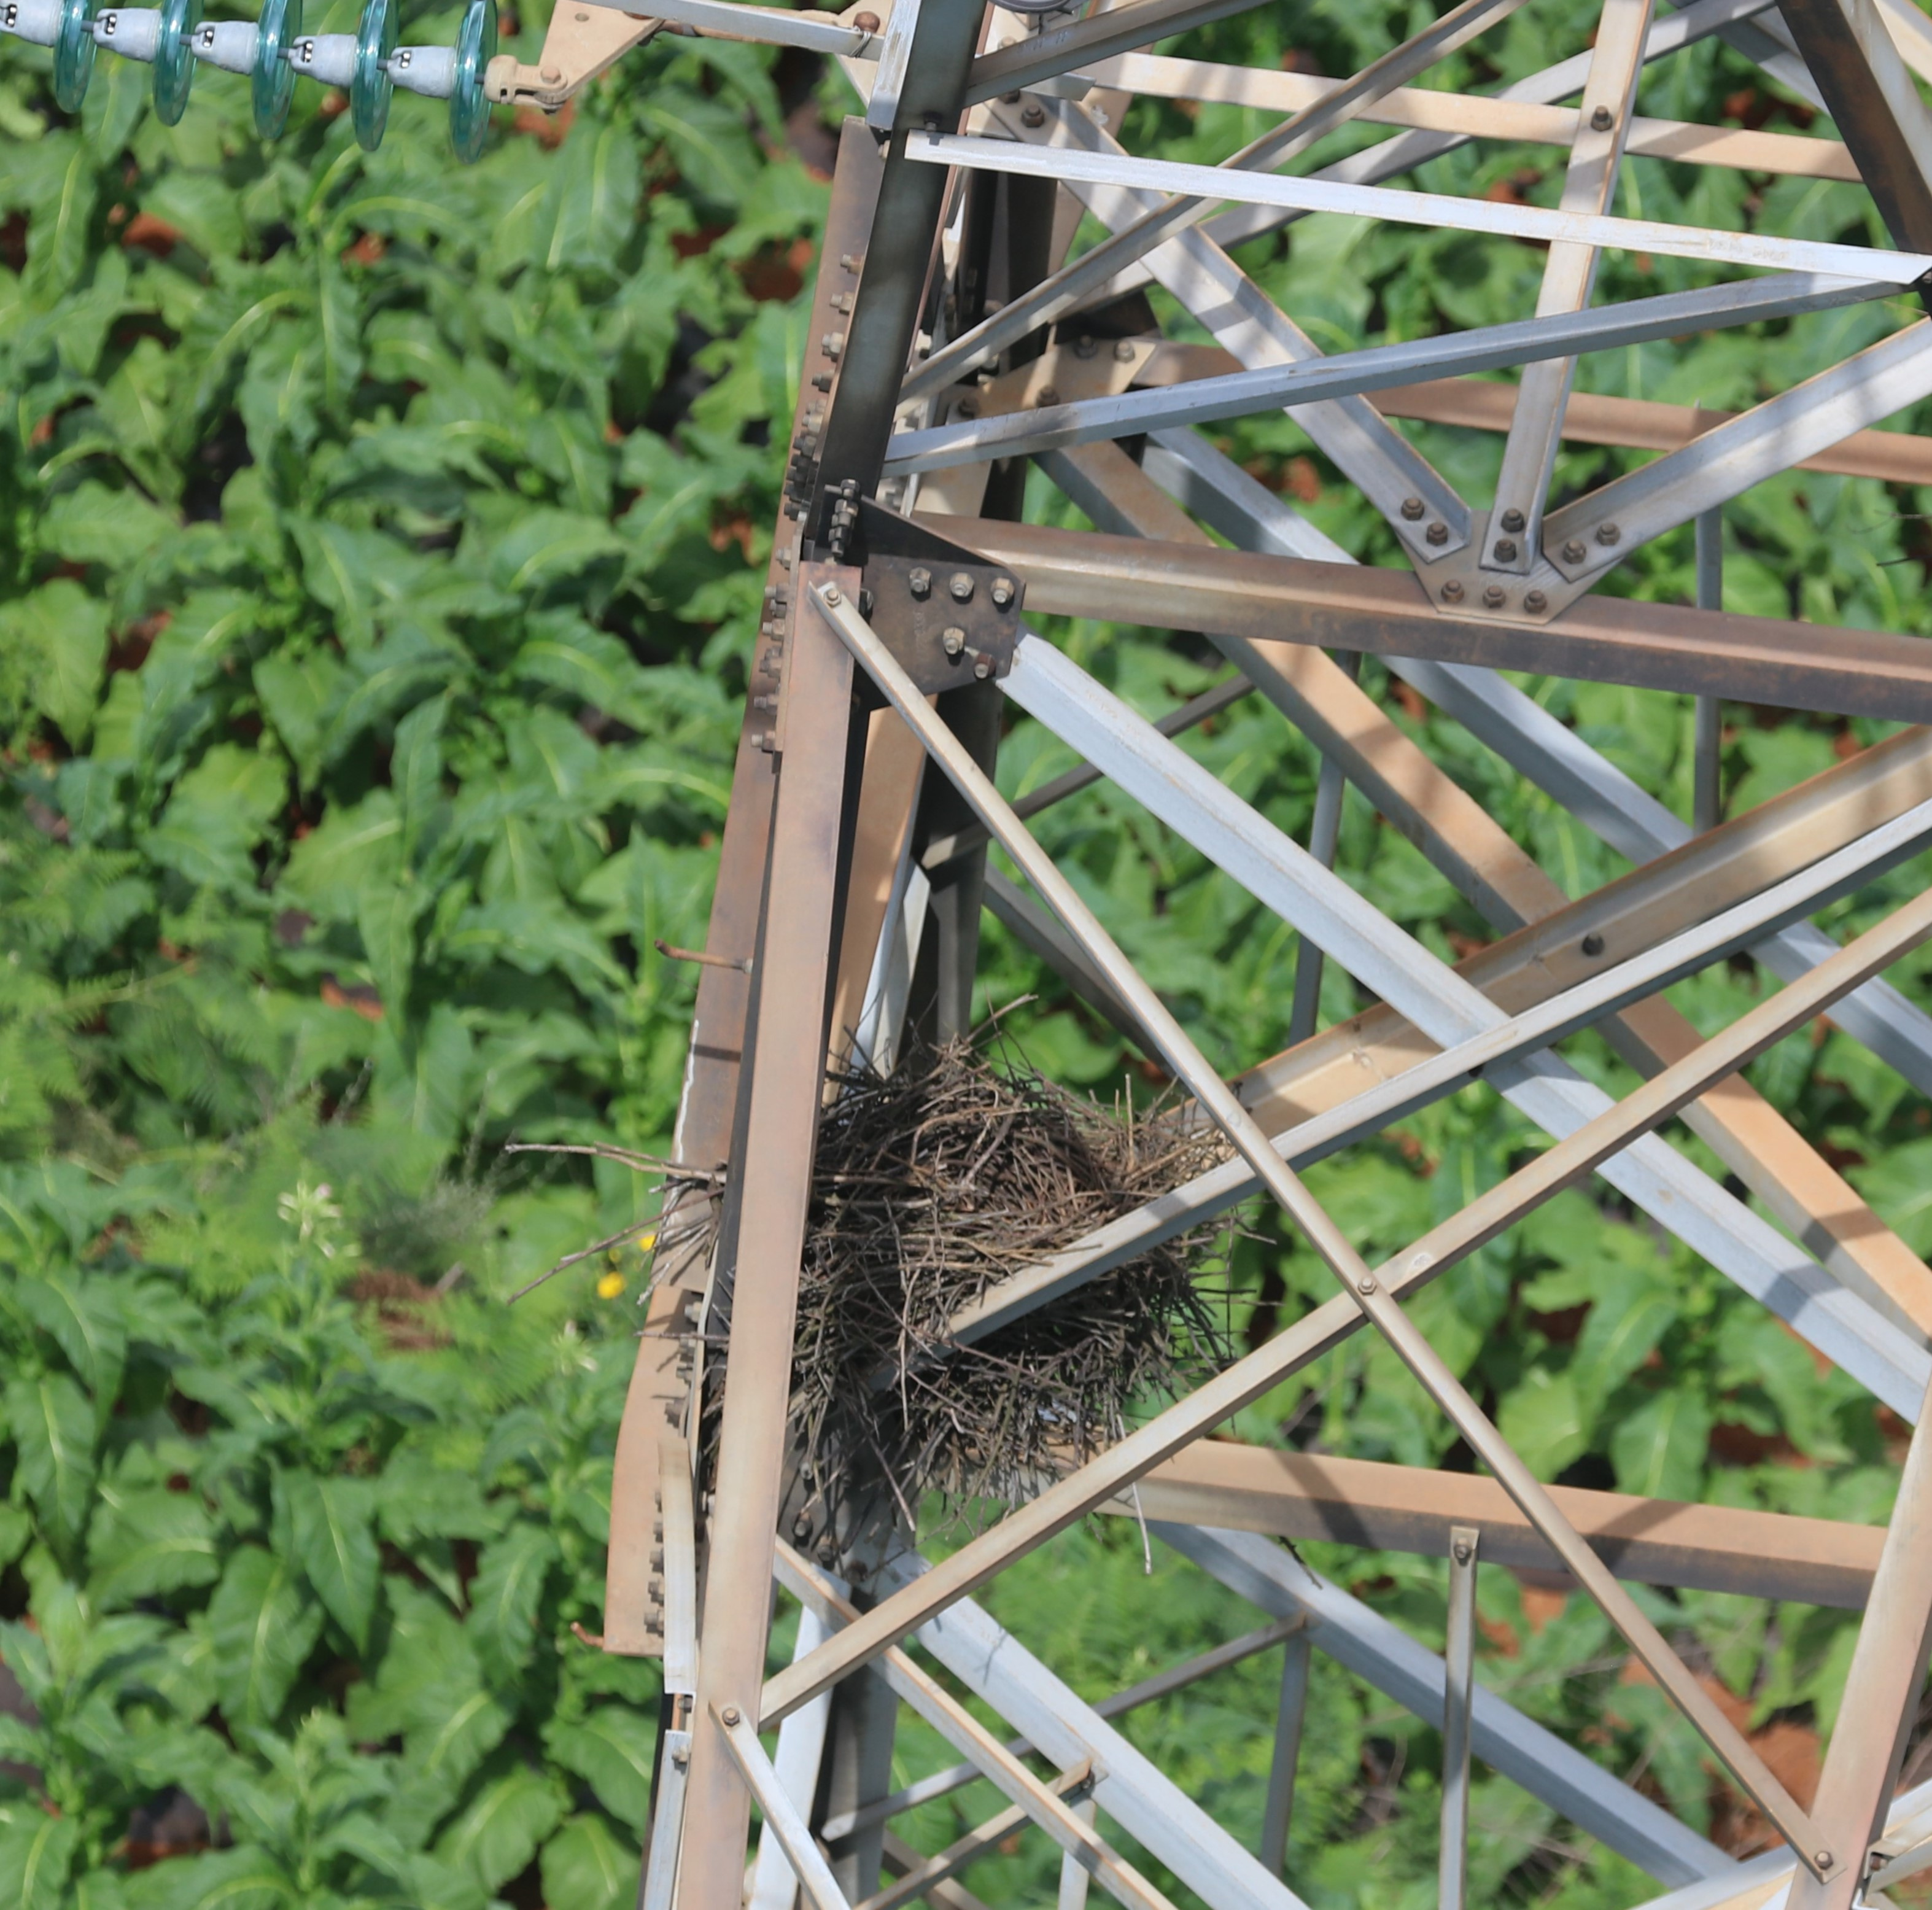niaowo: (708, 1028, 1254, 1551)
